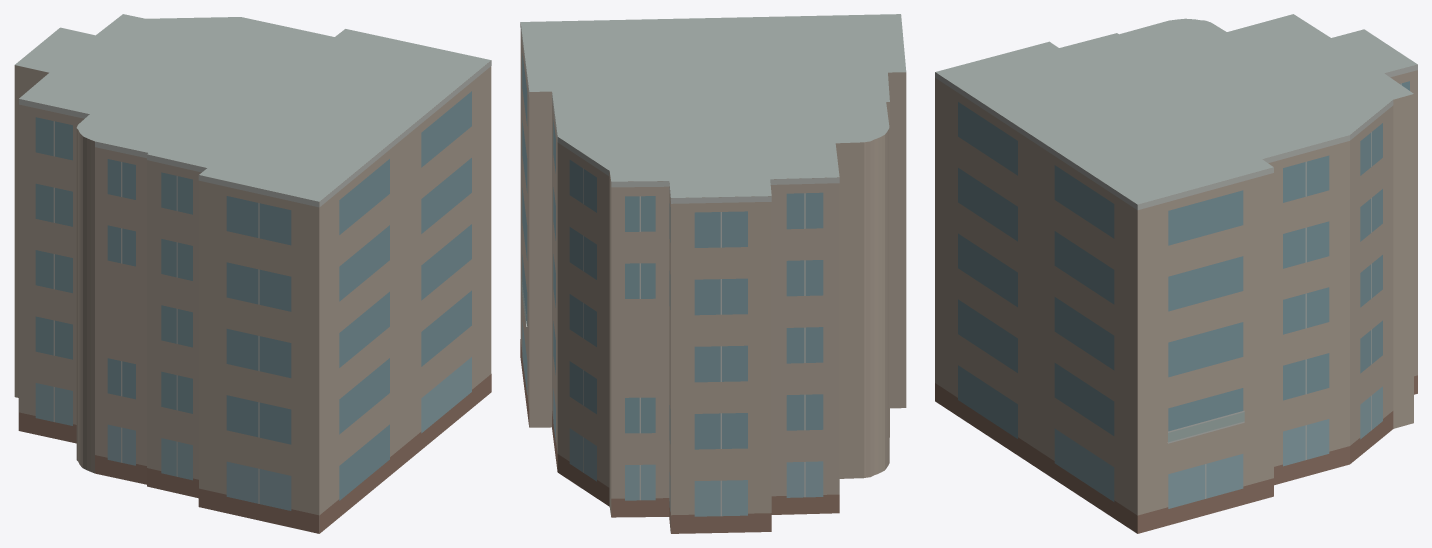
The model's file is survey-upis-33009852.glb.
3 views of the same model, side by side, from view 1: azimuth 30°, elevation 25°; view 2: azimuth 150°, elevation 25°; view 3: azimuth 270°, elevation 25° (orthographic).
Parts seen in each view (by area): view 1: survey-upis-33009852.tmp; view 2: survey-upis-33009852.tmp; view 3: survey-upis-33009852.tmp.
Part boxes in pixels (x1,y1,x2,y2): survey-upis-33009852.tmp: (14, 14, 491, 533); survey-upis-33009852.tmp: (520, 14, 906, 533); survey-upis-33009852.tmp: (935, 14, 1417, 533).
Size of the model in its own units: 17.64 by 14.2 by 18.88.
